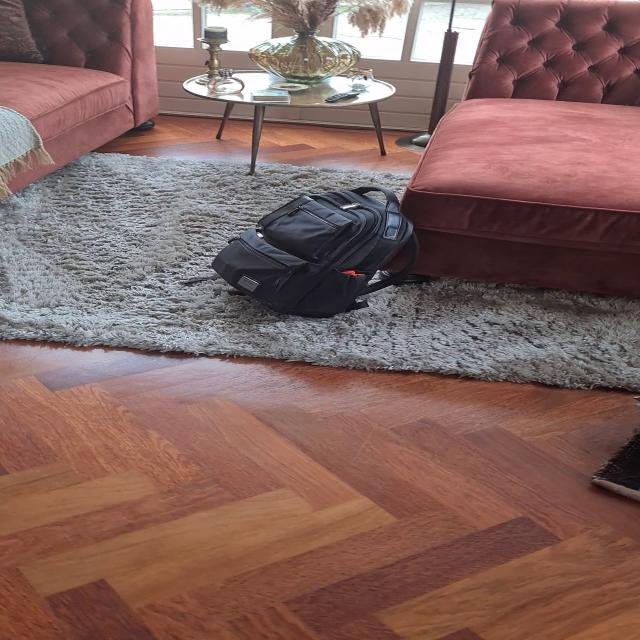backpack: (204, 182, 430, 322)
